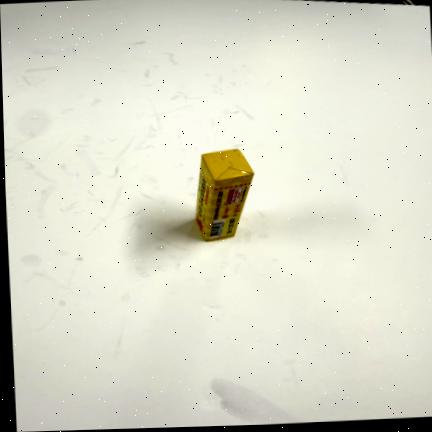gum_yellow: (195, 148, 253, 241)
